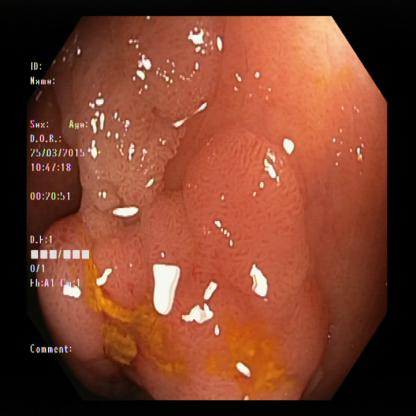Labels: (25, 55, 91, 356)
Polyps: (191, 140, 313, 309), (39, 224, 119, 365)
